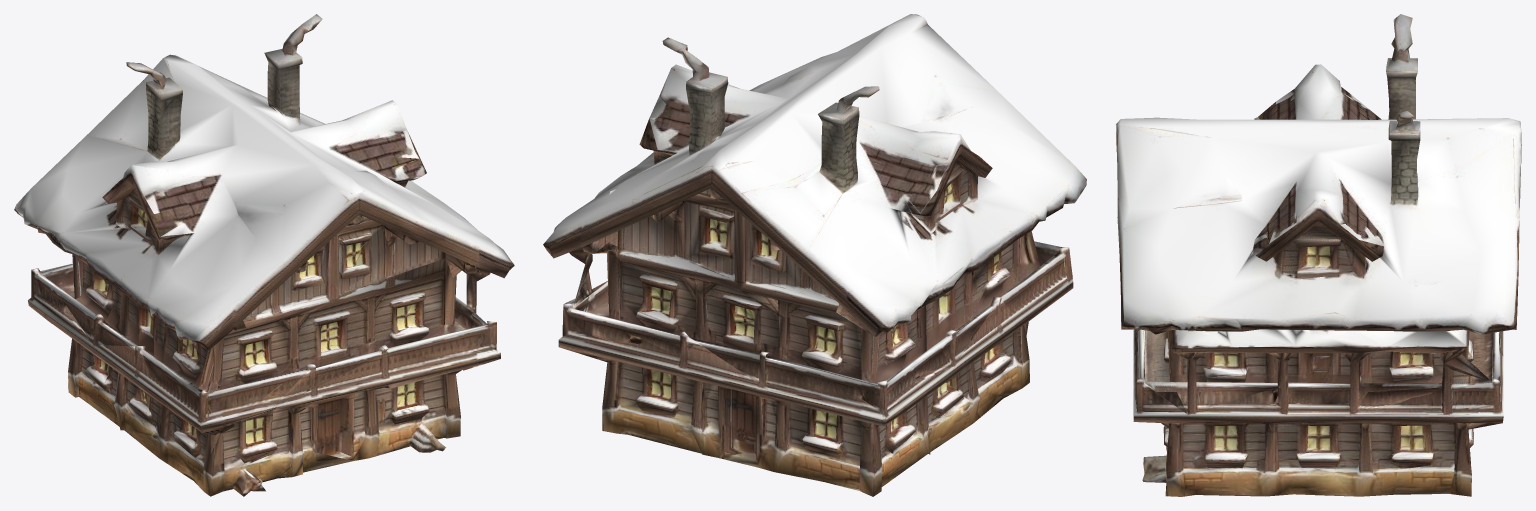
File: lodge.glb
The picture shows the model from 3 angles, left to right: view 1: azimuth 30°, elevation 25°; view 2: azimuth 150°, elevation 25°; view 3: azimuth 270°, elevation 25°; orthographic projection. The views are drawn at different scales.
Parts seen in each view (by area): view 1: Mesh_0; view 2: Mesh_0; view 3: Mesh_0.
Part boxes in pixels (x1,y1,x2,y2): Mesh_0: (14,14,514,496); Mesh_0: (543,14,1086,496); Mesh_0: (1116,14,1521,496).
Bounding box in the file's own units: 1.88 × 1.9 × 1.89.
Materials: 1 (1 with a texture image).
